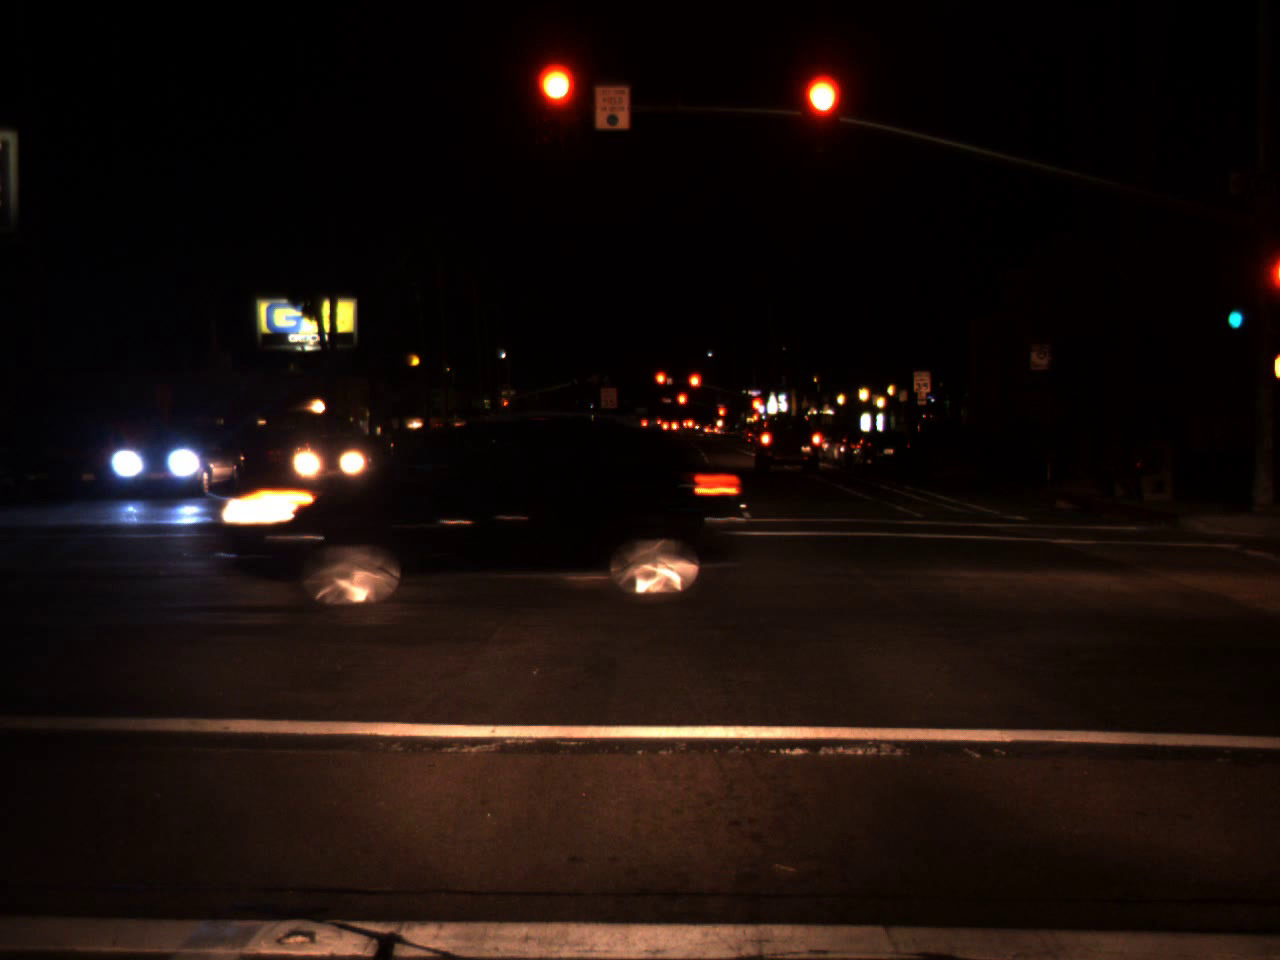stop: (538, 65, 578, 143), (802, 76, 841, 154), (686, 372, 702, 401), (653, 370, 666, 399), (676, 391, 688, 418), (750, 396, 763, 414), (717, 406, 727, 427), (502, 400, 508, 410)
